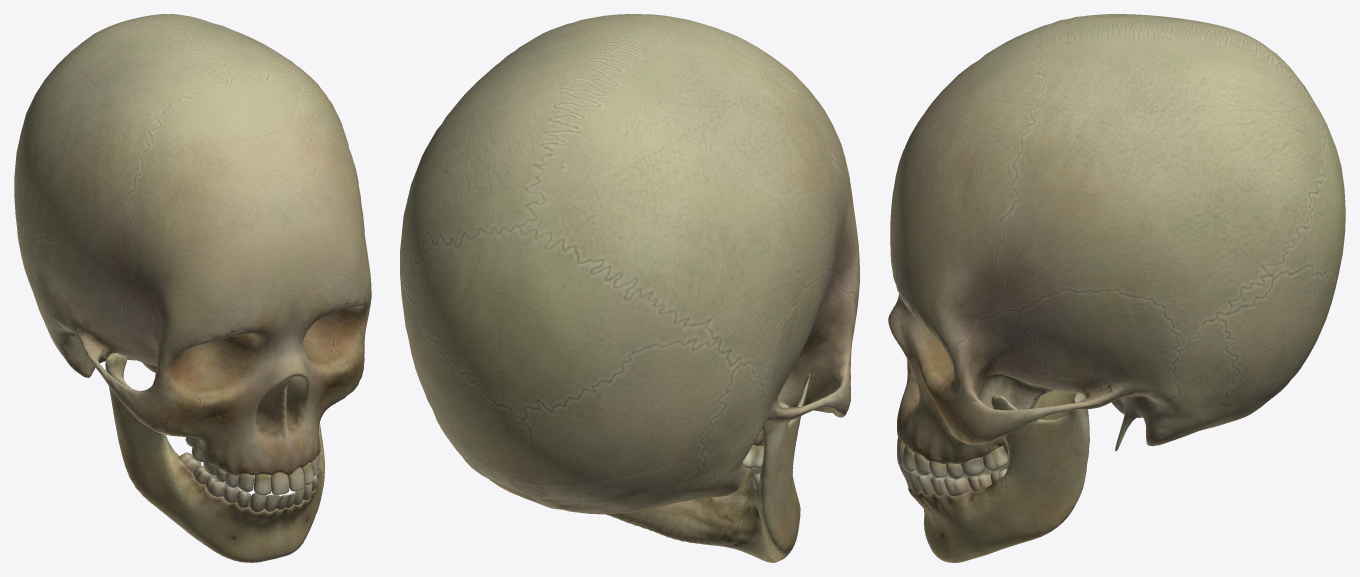
Rendered from - Cranio.FBX.
3 views of the same model, side by side, from view 1: azimuth 30°, elevation 25°; view 2: azimuth 150°, elevation 25°; view 3: azimuth 270°, elevation 25° (orthographic). The views are drawn at different scales.
Visible parts, largest first — view 1: Skeletal_Cranium; view 2: Skeletal_Cranium; view 3: Skeletal_Cranium.
Boxes of the visible parts, x1,y1,x2,y2 form: Skeletal_Cranium: (14,14,371,562); Skeletal_Cranium: (400,14,859,562); Skeletal_Cranium: (888,14,1345,562).
Bounding box in the file's own units: 14.79 × 23.44 × 18.86.
